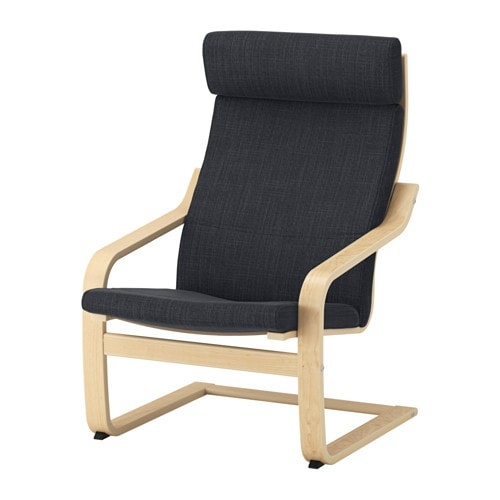obstacle: (82, 31, 417, 467)
